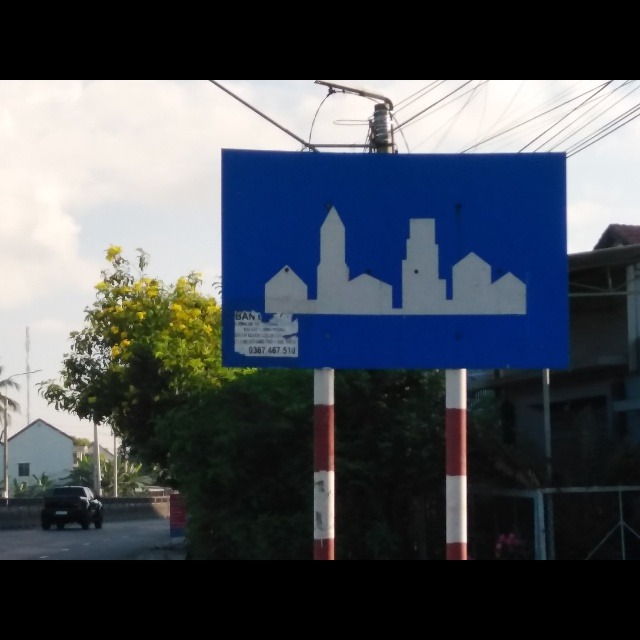Khu đông dân cư: (220, 147, 569, 369)
